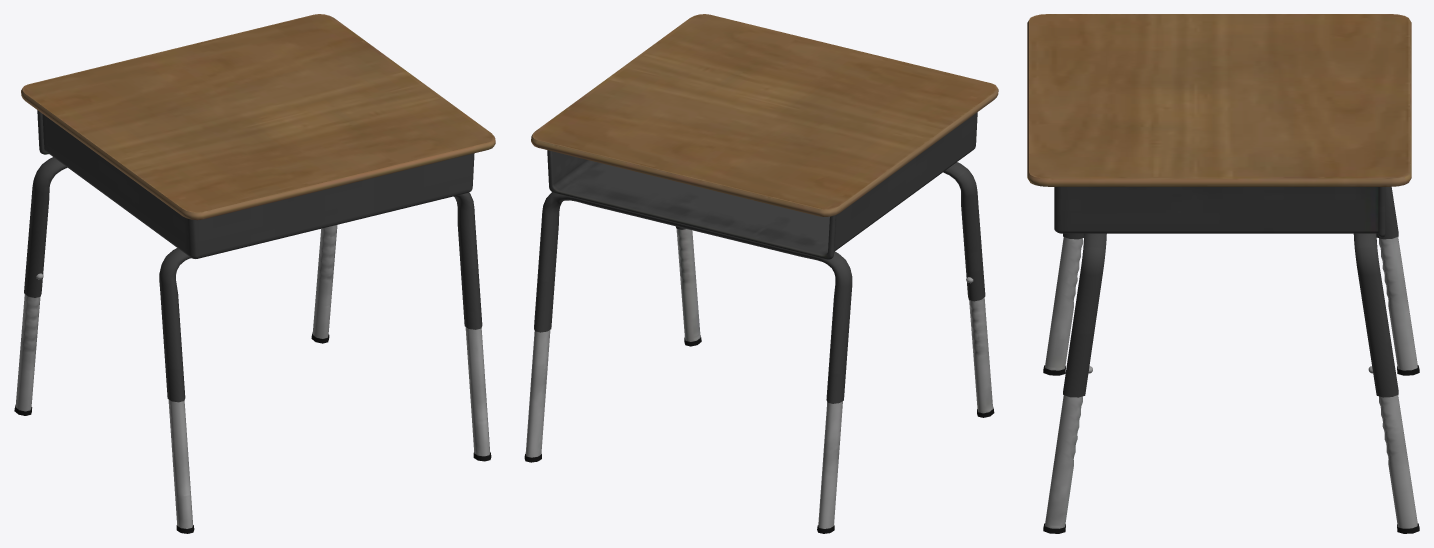
File: ph-schooldesk-01.glb
The picture shows the model from 3 angles, left to right: view 1: azimuth 30°, elevation 25°; view 2: azimuth 150°, elevation 25°; view 3: azimuth 270°, elevation 25°; orthographic projection. The views are drawn at different scales.
Parts seen in each view (by area): view 1: SchoolDesk_01; view 2: SchoolDesk_01; view 3: SchoolDesk_01.
Boxes of the visible parts, <box> form: SchoolDesk_01: <box>14,14,495,533</box>; SchoolDesk_01: <box>524,14,998,533</box>; SchoolDesk_01: <box>1027,14,1419,533</box>.
Size of the model in its own units: 1 by 1 by 1.
1 material, 1 textured.
